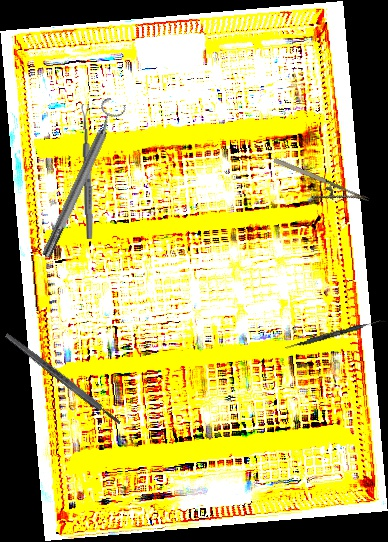Fixation Ring: (32, 95, 130, 262)
Needle Holder: (266, 154, 370, 221)
Scalpel Handle: (3, 331, 123, 427)
Spatula Surgical: (284, 315, 386, 353)
Surgical Spoon: (80, 103, 95, 240)
